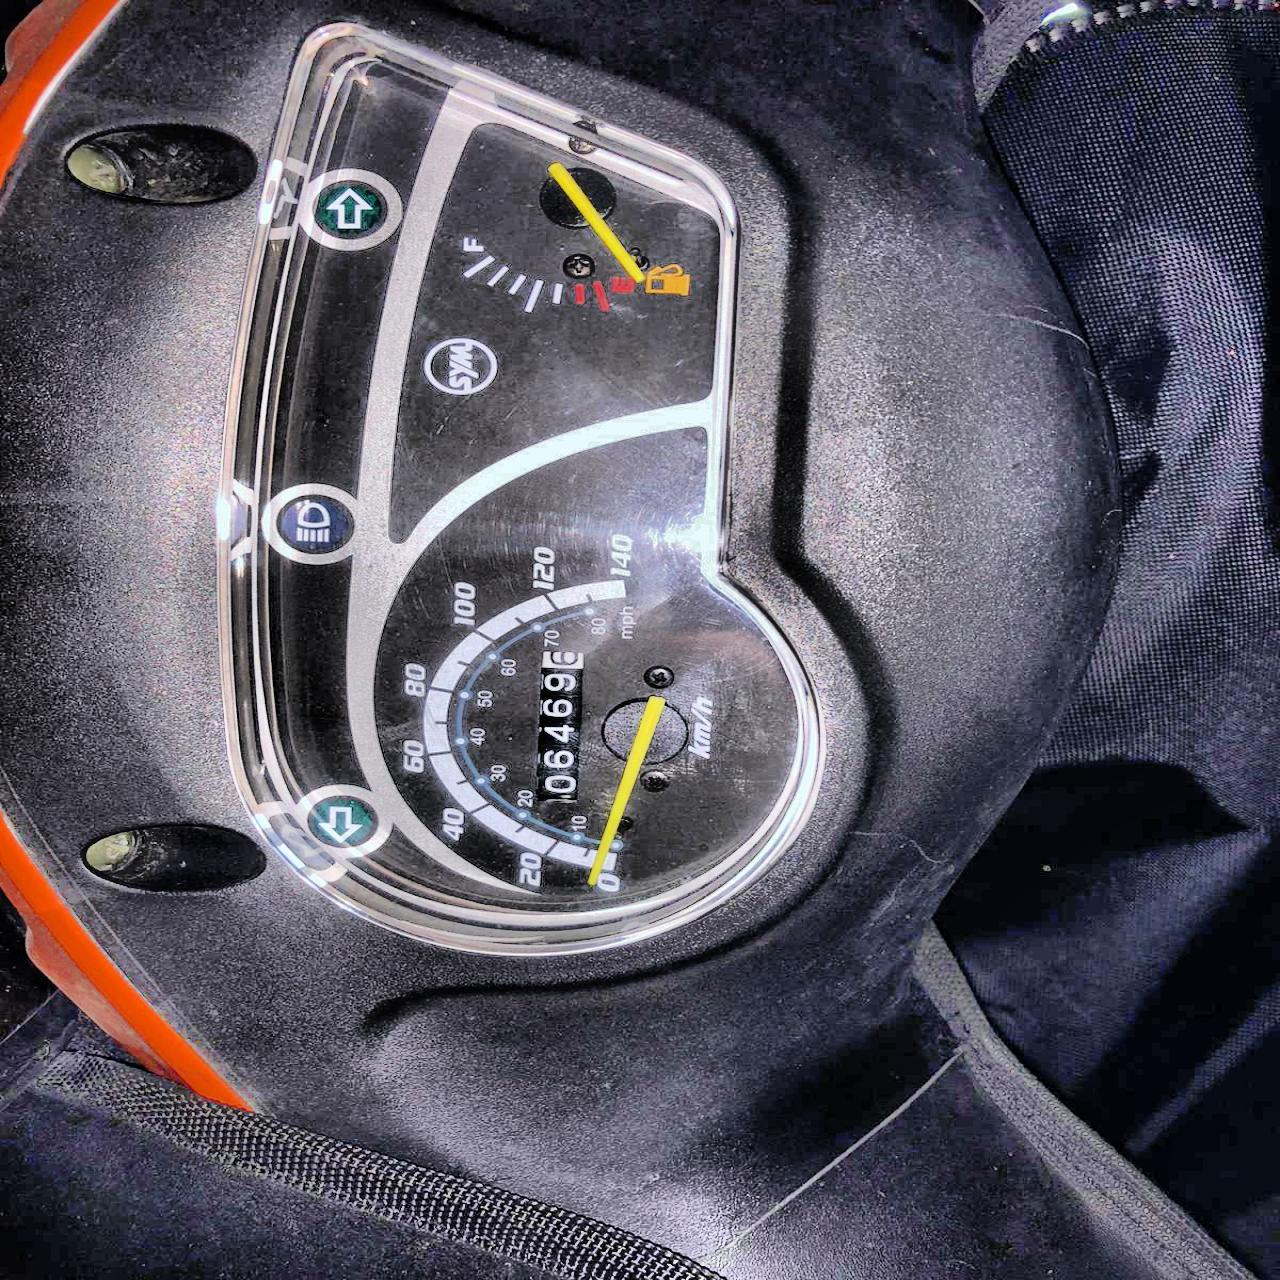0: (540, 772, 578, 794)
4: (542, 723, 576, 742)
6: (542, 748, 576, 769), (542, 697, 576, 717), (546, 648, 583, 666)
9: (539, 673, 579, 694)
odometer: (527, 646, 591, 809)
